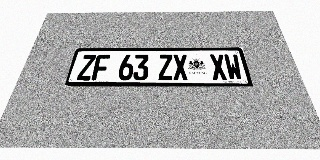3: (133, 54, 149, 80)
6: (118, 54, 135, 80)
F: (91, 55, 110, 80)
W: (223, 54, 244, 80)
X: (209, 54, 228, 80), (173, 54, 188, 80)
Z: (76, 55, 96, 80), (158, 54, 173, 80)
